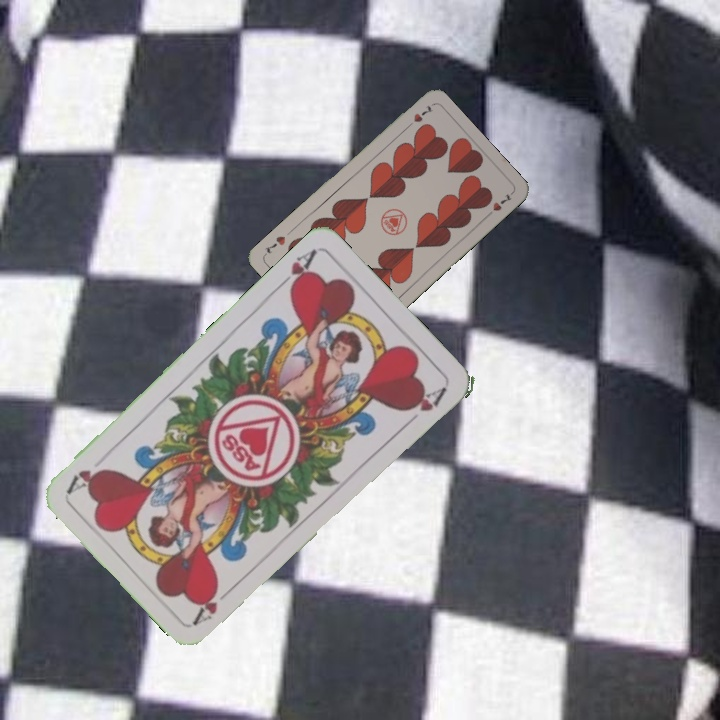H7: (401, 101, 436, 132)
HA: (273, 245, 319, 296), (190, 581, 237, 627)
